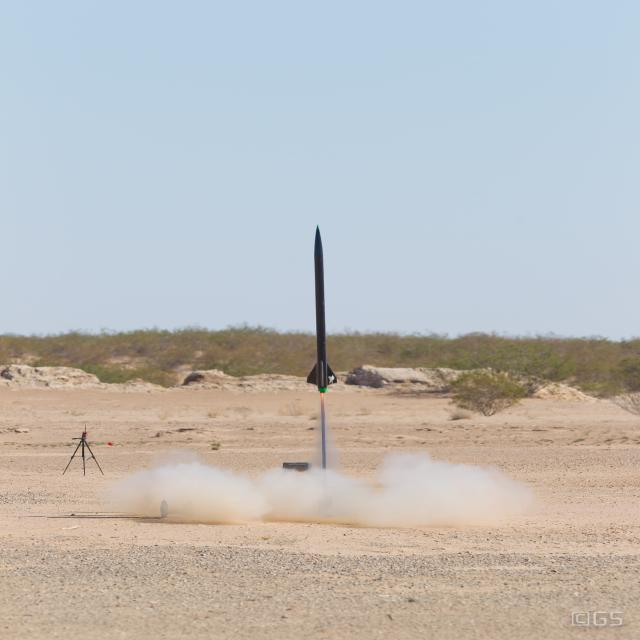Rocket: (305, 223, 337, 393)
